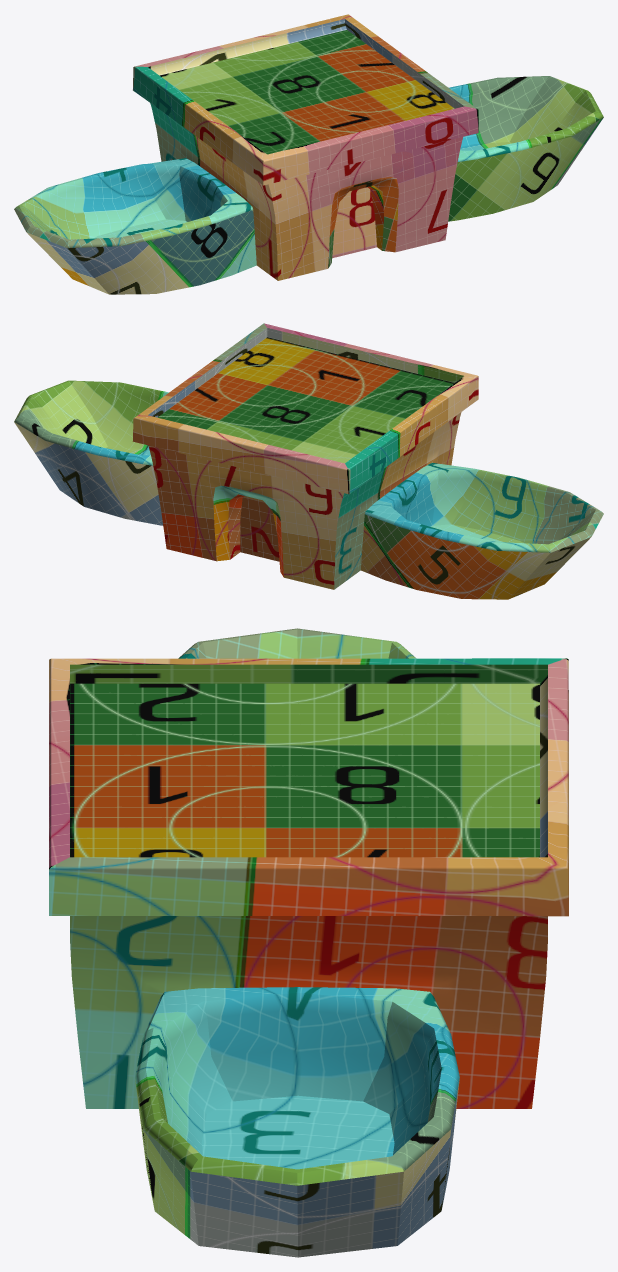
Rendered from SM_BlastFurnace_Pools.fbx.
3 renders of one model, top to bottom at view 1: azimuth 30°, elevation 25°; view 2: azimuth 150°, elevation 25°; view 3: azimuth 270°, elevation 25°, orthographic. The views are drawn at different scales.
Visible parts, largest first — view 1: SM_BlastFurnace_Pools; view 2: SM_BlastFurnace_Pools; view 3: SM_BlastFurnace_Pools.
Part boxes in pixels (bbox=[...]): SM_BlastFurnace_Pools: bbox=[14, 14, 603, 294]; SM_BlastFurnace_Pools: bbox=[14, 323, 603, 599]; SM_BlastFurnace_Pools: bbox=[49, 628, 568, 1257].
Bounding box in the file's own units: 473 × 106 × 188.
1 material, 1 textured.
